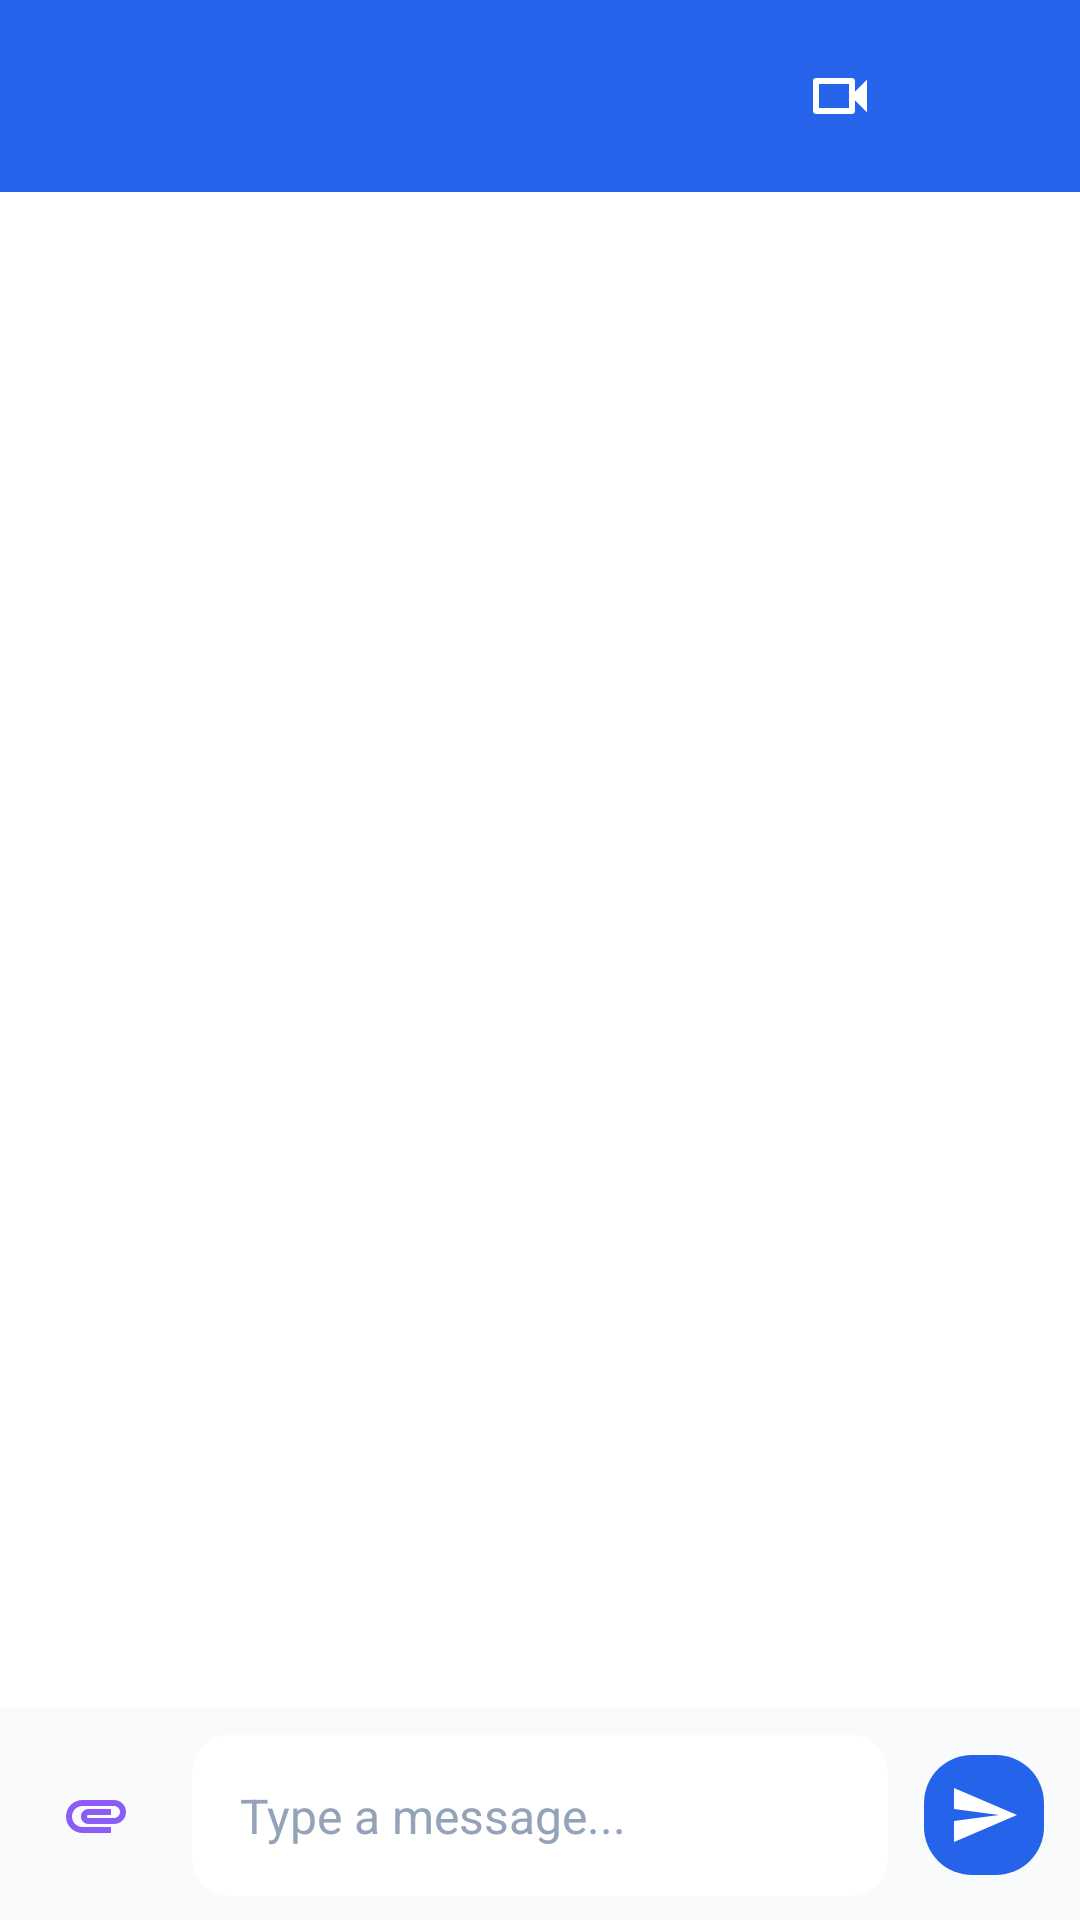

Point at icon controls on the screen. Image size 1080×1920, points as [x,y].
Attach: [96,1816]
Send: [984,1815]
Video Call: [840,96]
